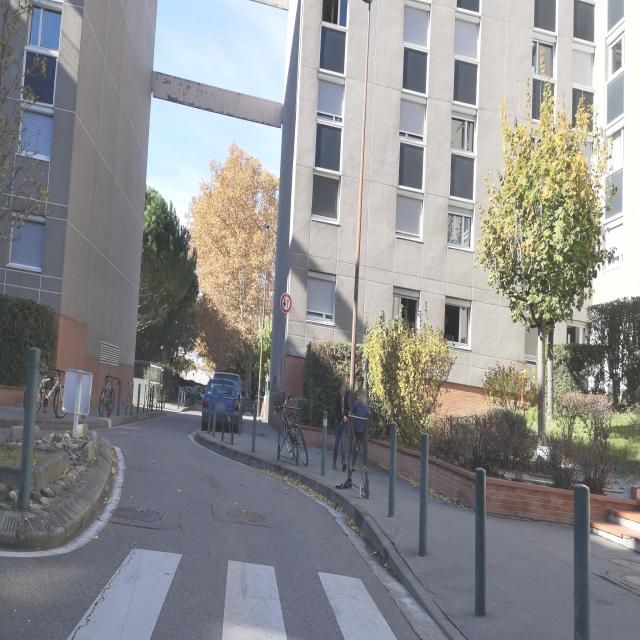bike: (276, 396, 309, 469)
car: (200, 370, 242, 433)
